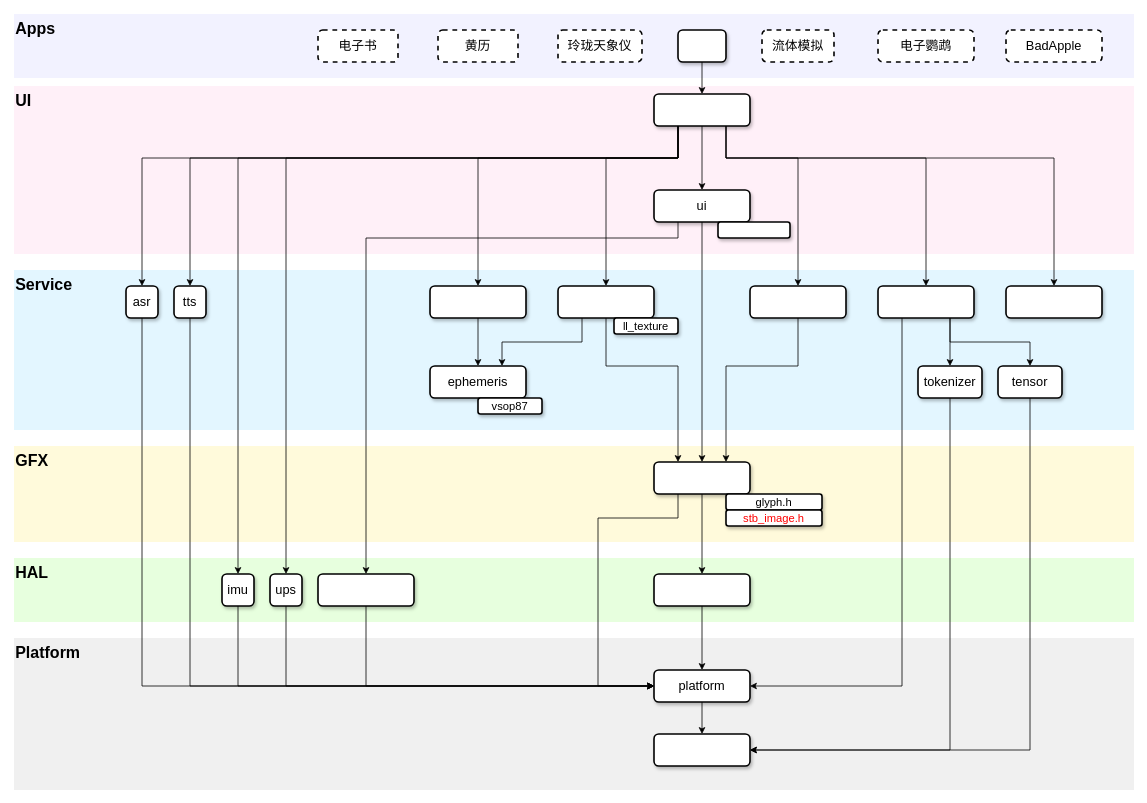
Image size: 1147x803. Some labels were removed from this diagram. The centre of each missing label's shape, as x and y in pixels:
badapple.h: (1054,303)
celestial: (606,303)
display_hal: (702,591)
flip: (798,303)
graphics: (702,479)
infer: (926,303)
keyboard_hal: (366,591)
main: (702,47)
nongli: (478,303)
pinyin_lut: (754,231)
ui_app: (702,111)
utils: (702,751)
